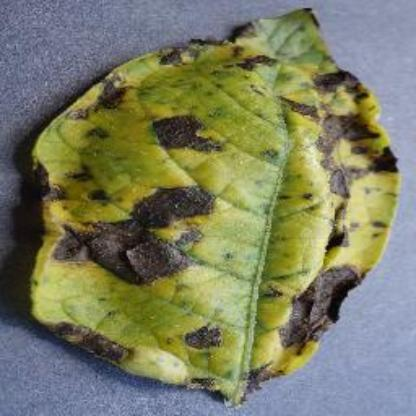Early-Blight: (25, 5, 399, 407)
